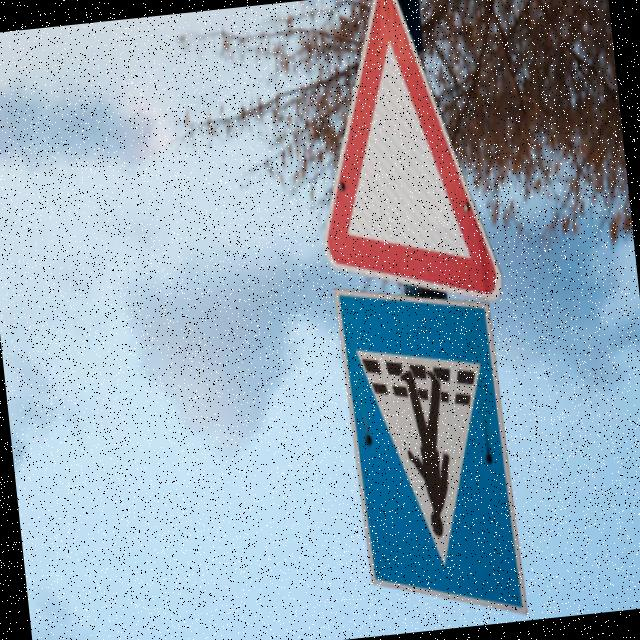crosswalk: (318, 283, 545, 615)
give_way: (290, 0, 523, 319)
